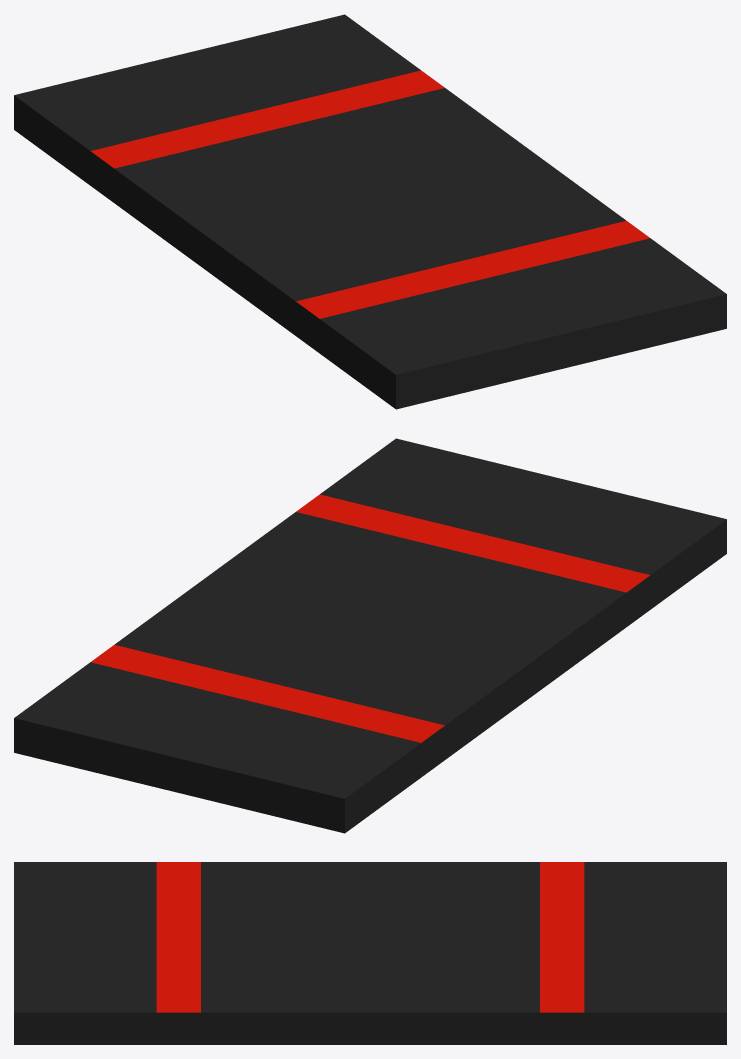
The model's file is Bridge.fbx.
The picture shows the model from 3 angles, top to bottom: view 1: azimuth 30°, elevation 25°; view 2: azimuth 150°, elevation 25°; view 3: azimuth 270°, elevation 25°; orthographic projection. The views are drawn at different scales.
Parts seen in each view (by area): view 1: Cube; view 2: Cube; view 3: Cube.
Boxes of the visible parts, <box> form: Cube: <box>14,14,726,409</box>; Cube: <box>14,438,726,833</box>; Cube: <box>14,862,726,1044</box>.
Size of the model in its own units: 100 by 10 by 200.
